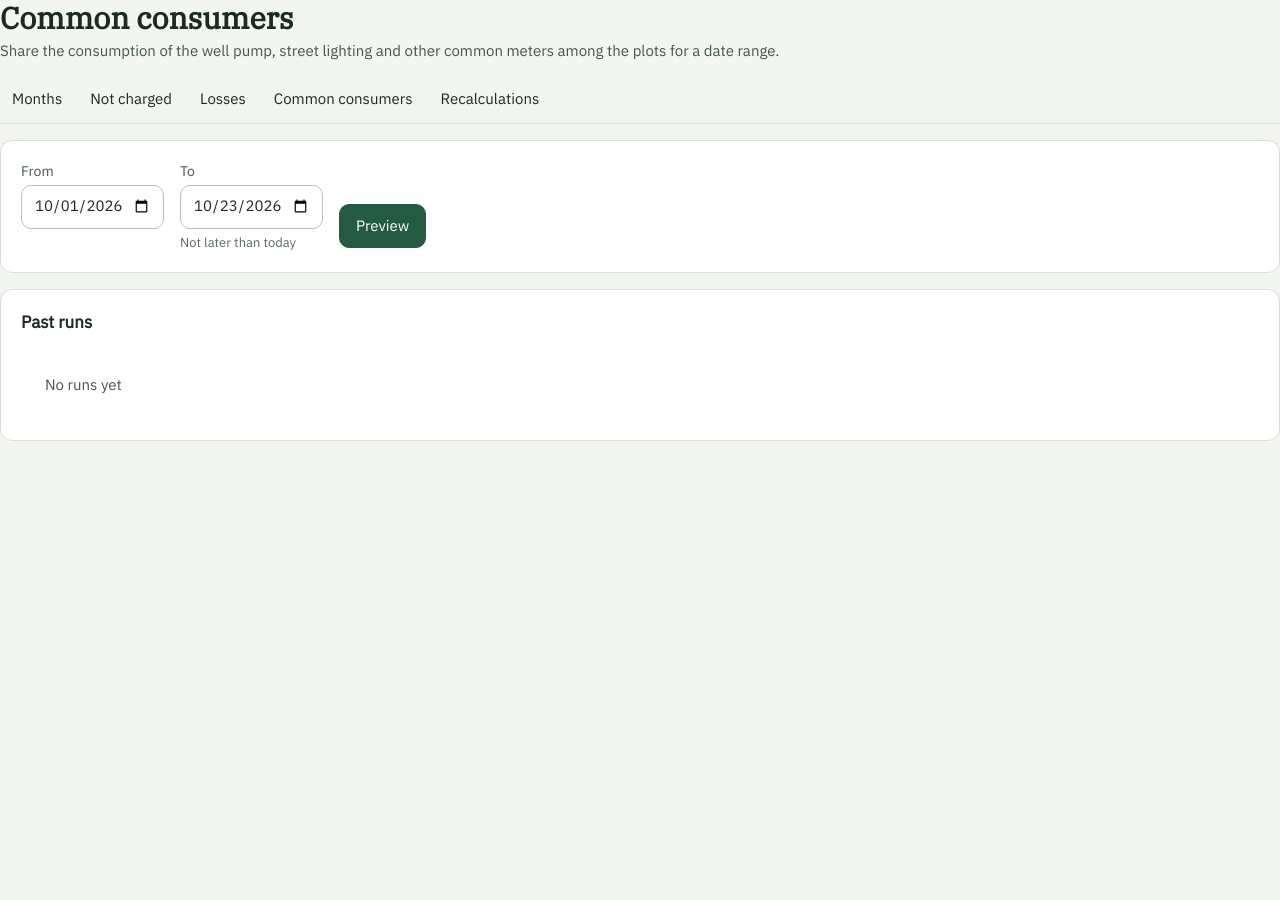
CommonConsumersPage › when a consumer was already charged for these days › offers a new preview when the booking meets an overlap
What coordinates should you click on to do the following:
click the button "Preview"
I would click on:
 (383, 226)
Its box is [339,204,426,248].
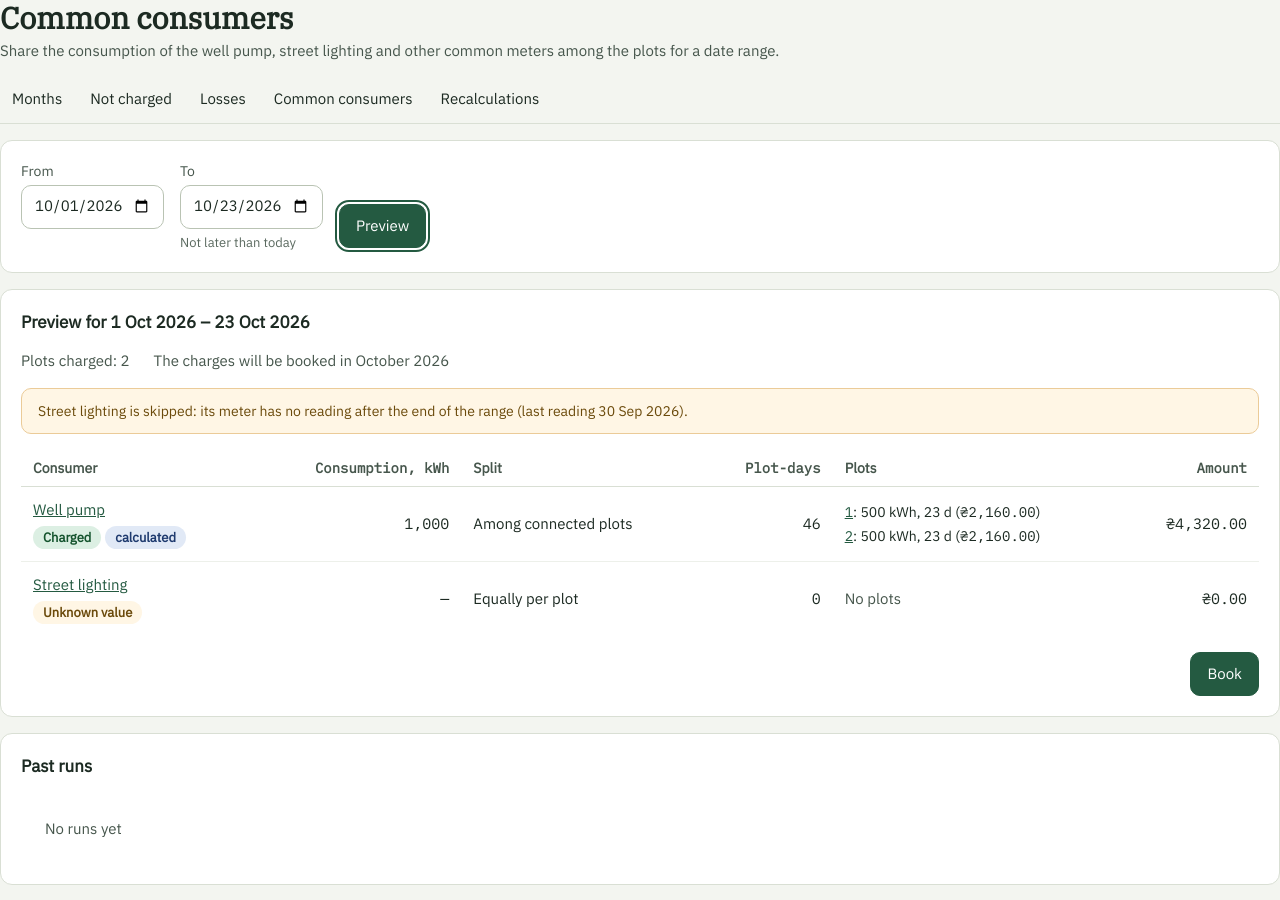
What coordinates should you click on to do the following:
click the button "Book"
I would click on:
 (1225, 674)
Its box is [1190,652,1259,696].
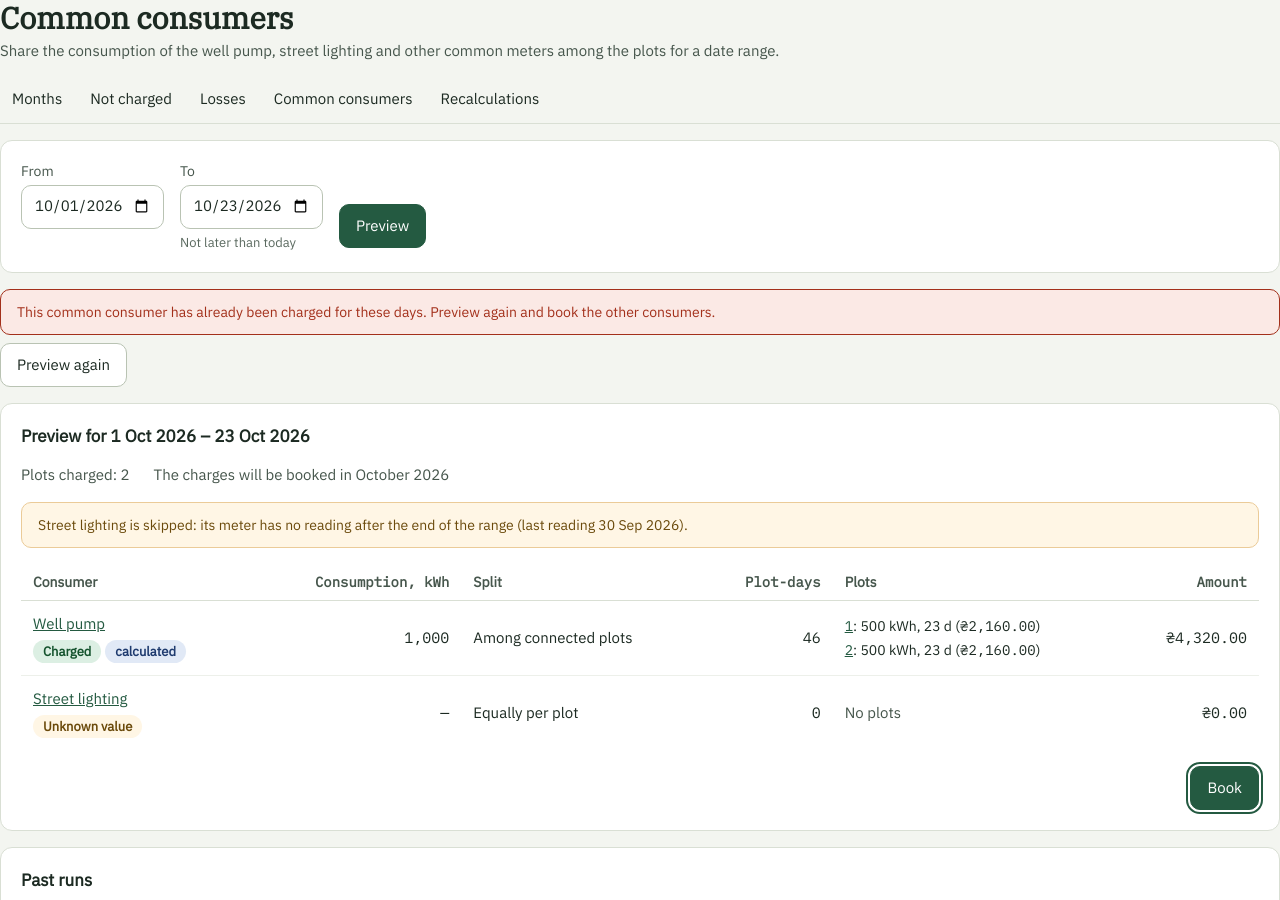
Expected: the 1st message shows "This common consumer has already been charged for these days", [17,303,715,321]
Expected: the button "Preview again" is shown, [0,343,127,387]
